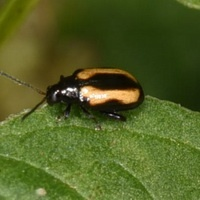insect: (0, 68, 143, 120)
